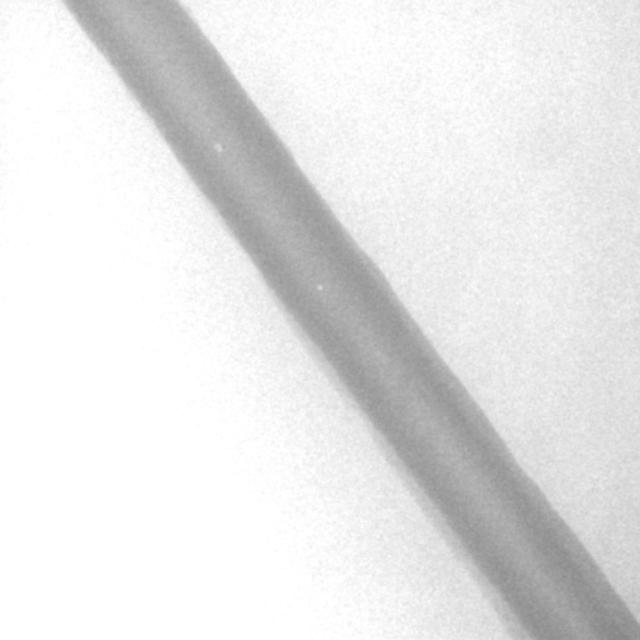air-hole: (212, 140, 221, 156), (316, 282, 324, 294)
